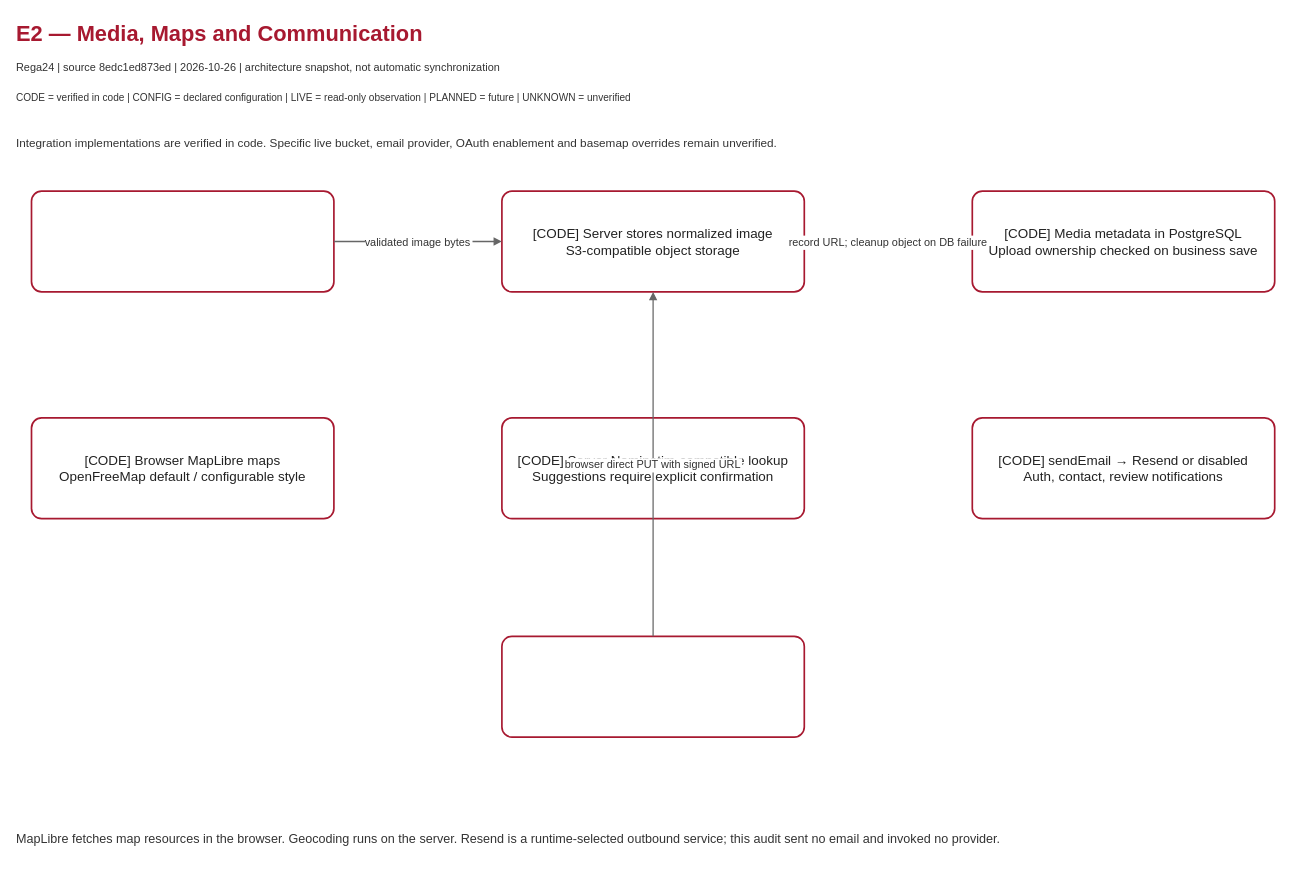
The diagram is 1305 pixels wide and 877 high, and some of its shapes have lost their labels. The shapes that lost their labels are listed below. From the top down, each one's centre as x and y in pixels, then its label:
point (182, 241): [CODE] POST /api/v1/media/business-image Permission + size/MIME + safe re-encode
point (653, 686): [CODE] Separate upload-url API Short-lived pre-signed PUT (300 seconds)
